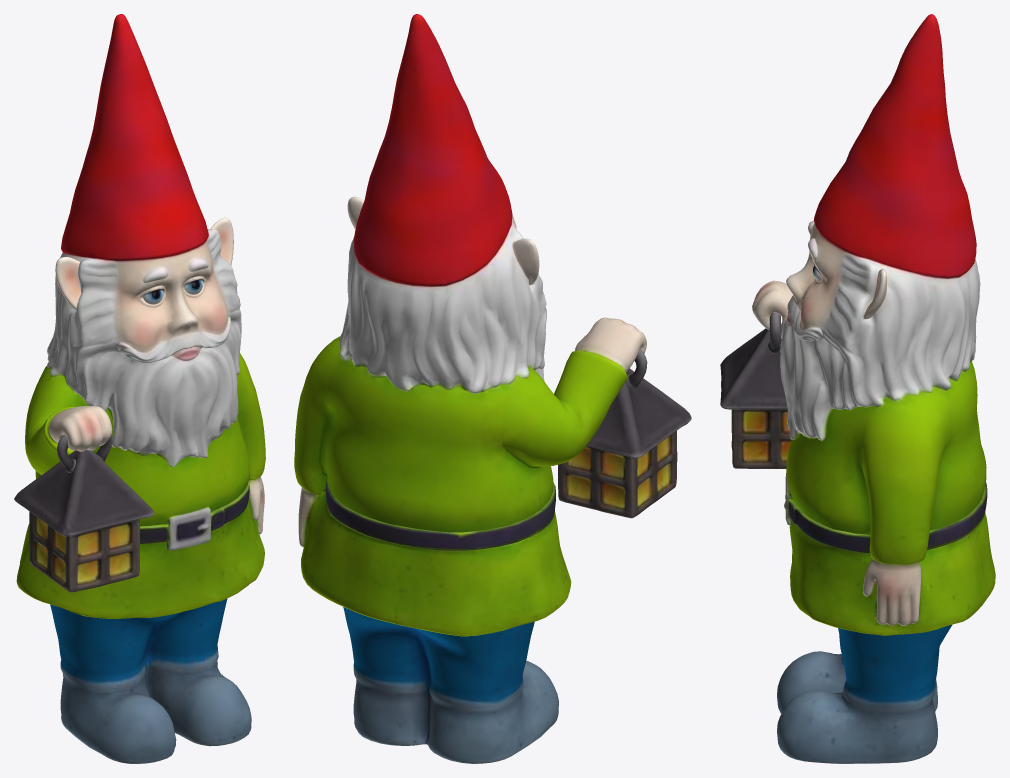
The model's file is garden_gnome.glb.
The picture shows the model from 3 angles, left to right: view 1: azimuth 30°, elevation 25°; view 2: azimuth 150°, elevation 25°; view 3: azimuth 270°, elevation 25°; orthographic projection. The views are drawn at different scales.
Visible parts, largest first — view 1: garden_gnome; view 2: garden_gnome; view 3: garden_gnome.
Part boxes in pixels (x1,y1,x2,y2): garden_gnome: (14,14,265,763); garden_gnome: (294,14,691,763); garden_gnome: (720,14,995,763).
Size of the model in its own units: 0.2579 by 0.5991 by 0.2097.
Materials: 1 (1 with a texture image).
